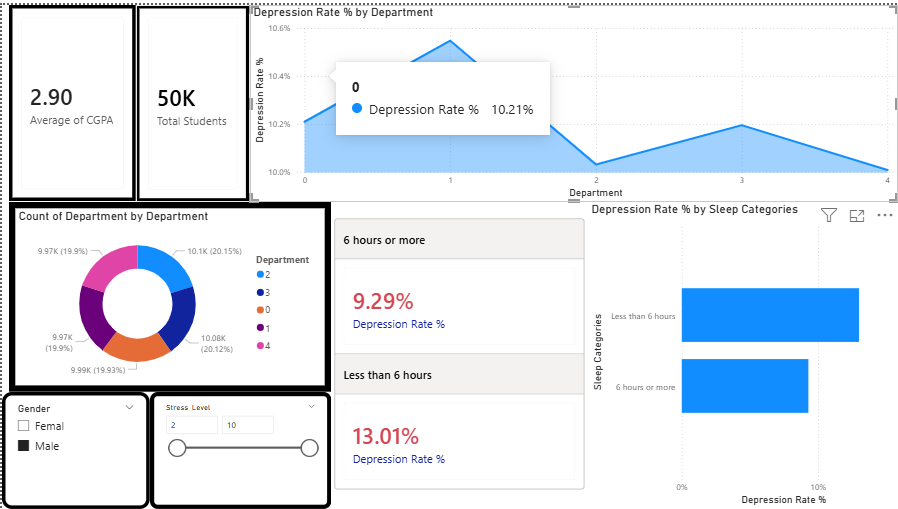

What the dashboard file says about the page in this screenshot:
{"tool":"powerbi","page":{"name":"Page 1","canvas":[1280,720],"ordinal":0},"visuals":[{"type":"cardVisual","fields":{"Data":["Avg(student_lifestyle_final.CGPA)"]},"box":[10,0,181.4,280],"z":0},{"type":"cardVisual","fields":{"Data":["student_lifestyle_final.Total Students"]},"box":[191.4,0,162.9,281.4],"z":1},{"type":"donutChart","fields":{"Category":["student_lifestyle_final.Department"],"Y":["CountNonNull(student_lifestyle_final.Department)"]},"box":[10,281.4,460,271.4],"z":2},{"type":"stackedAreaChart","fields":{"Category":["student_lifestyle_final.Department"],"Y":["student_lifestyle_final.Depression Rate %"]},"box":[354.3,0,925.7,281.4],"z":3},{"type":"slicer","fields":{"Values":["student_lifestyle_final.Gender"]},"box":[0,552.9,211.4,167.1],"z":4},{"type":"slicer","fields":{"Values":["student_lifestyle_final.Stress_Level"]},"box":[211.4,552.9,258.6,167.1],"z":6},{"type":"clusteredBarChart","fields":{"Category":["student_lifestyle_final.فئات النوم"],"Y":["student_lifestyle_final.Depression Rate %"]},"box":[837.1,281.4,442.9,438.6],"z":7},{"type":"cardVisual","fields":{"Data":["student_lifestyle_final.Depression Rate %"],"Rows":["student_lifestyle_final.Sleep Categories"]},"box":[470,280,367.1,438.6],"z":8}]}

Visuals, with their boxes in screenshot pixels (x1, y1, x2, y2), scaled from the page's 1280x720 canvas onto the 898x509 screenshot:
cardVisual - Avg(student_lifestyle_final.CGPA): select_region(7, 0, 134, 198)
cardVisual - student_lifestyle_final.Total Students: select_region(134, 0, 249, 199)
donutChart - student_lifestyle_final.Department x CountNonNull(student_lifestyle_final.Department): select_region(7, 199, 330, 391)
stackedAreaChart - student_lifestyle_final.Department x student_lifestyle_final.Depression Rate %: select_region(249, 0, 897, 199)
slicer - student_lifestyle_final.Gender: select_region(0, 391, 148, 508)
slicer - student_lifestyle_final.Stress_Level: select_region(148, 391, 330, 508)
clusteredBarChart - student_lifestyle_final.فئات النوم x student_lifestyle_final.Depression Rate %: select_region(587, 199, 897, 508)
cardVisual - student_lifestyle_final.Depression Rate % x student_lifestyle_final.Sleep Categories: select_region(330, 198, 587, 508)
